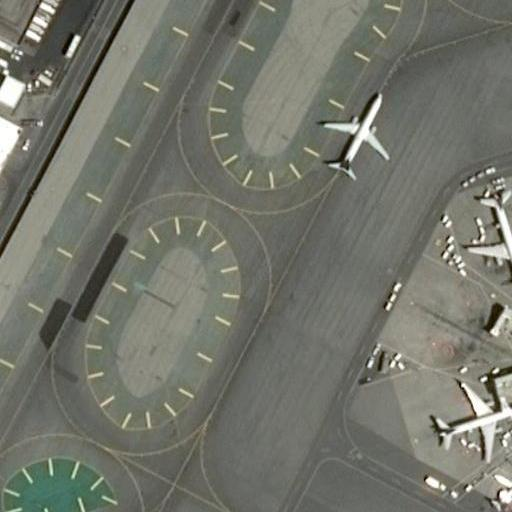Aircraft: (314, 83, 392, 178), (423, 373, 512, 455), (461, 185, 512, 307)
